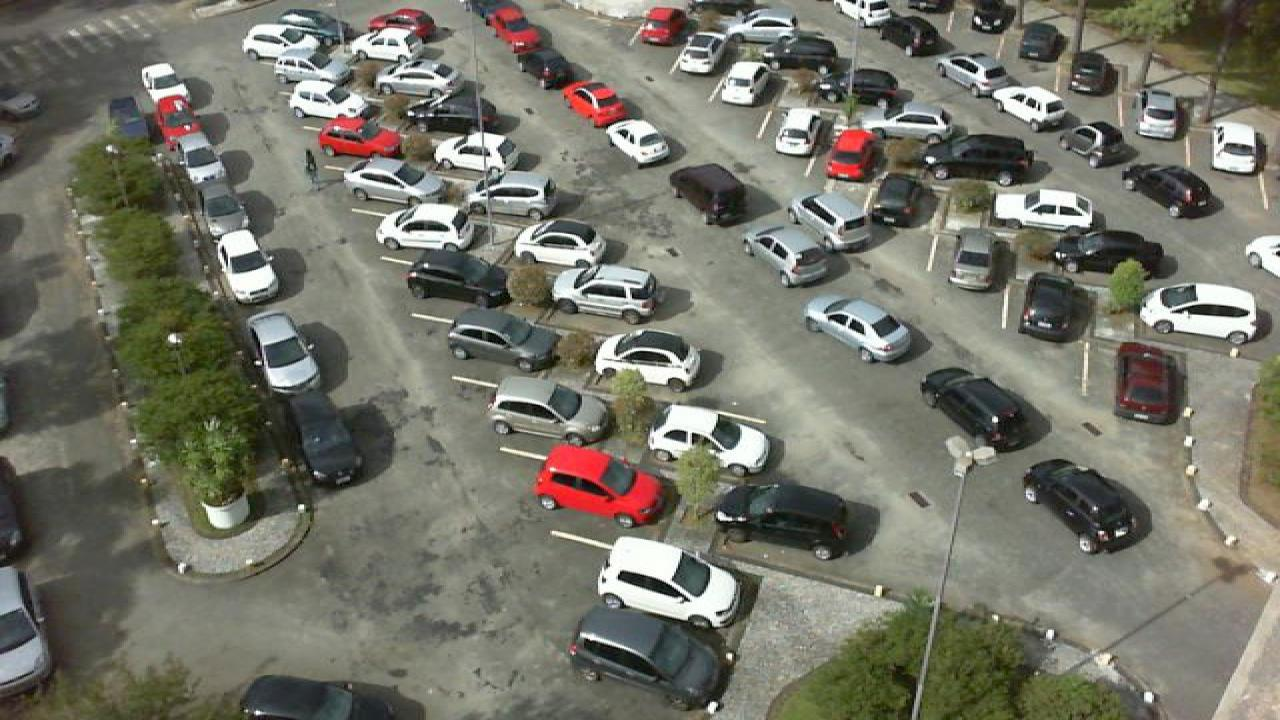Car: (564, 606, 732, 710), (596, 537, 742, 629), (1022, 458, 1156, 556), (530, 444, 672, 530), (712, 482, 856, 562), (918, 366, 1032, 454), (646, 403, 772, 476), (484, 375, 612, 446), (278, 386, 366, 488), (800, 294, 916, 364), (1136, 282, 1262, 344), (446, 306, 560, 372), (590, 328, 702, 393), (402, 248, 512, 308), (1112, 341, 1188, 424), (244, 312, 320, 394), (552, 266, 658, 324), (742, 225, 840, 287), (924, 132, 1038, 185), (1118, 162, 1224, 219), (1052, 229, 1168, 278), (1014, 271, 1092, 343), (786, 190, 876, 250), (666, 161, 748, 226), (510, 217, 606, 270), (372, 202, 470, 252), (992, 188, 1100, 233), (212, 230, 278, 302), (344, 158, 444, 202), (464, 170, 554, 218), (428, 130, 522, 174), (1058, 119, 1138, 168), (946, 228, 1006, 292), (870, 174, 940, 228), (314, 118, 404, 160), (398, 84, 488, 126), (604, 117, 678, 167), (990, 84, 1070, 130), (1206, 118, 1268, 176), (822, 126, 884, 183), (874, 12, 952, 57), (194, 183, 252, 241), (858, 107, 954, 142), (560, 80, 630, 127), (238, 22, 320, 62), (512, 46, 584, 91), (288, 80, 366, 121), (374, 57, 456, 96), (484, 2, 550, 50), (936, 54, 1010, 94), (760, 34, 840, 70), (350, 27, 426, 64), (170, 139, 226, 189), (1134, 87, 1186, 140), (1066, 45, 1118, 95), (672, 30, 728, 76), (716, 61, 770, 107), (156, 94, 206, 142), (770, 107, 818, 155), (268, 55, 342, 86), (720, 8, 796, 38), (140, 62, 190, 106), (636, 6, 690, 46), (1018, 19, 1068, 61), (366, 9, 434, 39), (832, 0, 900, 27)
